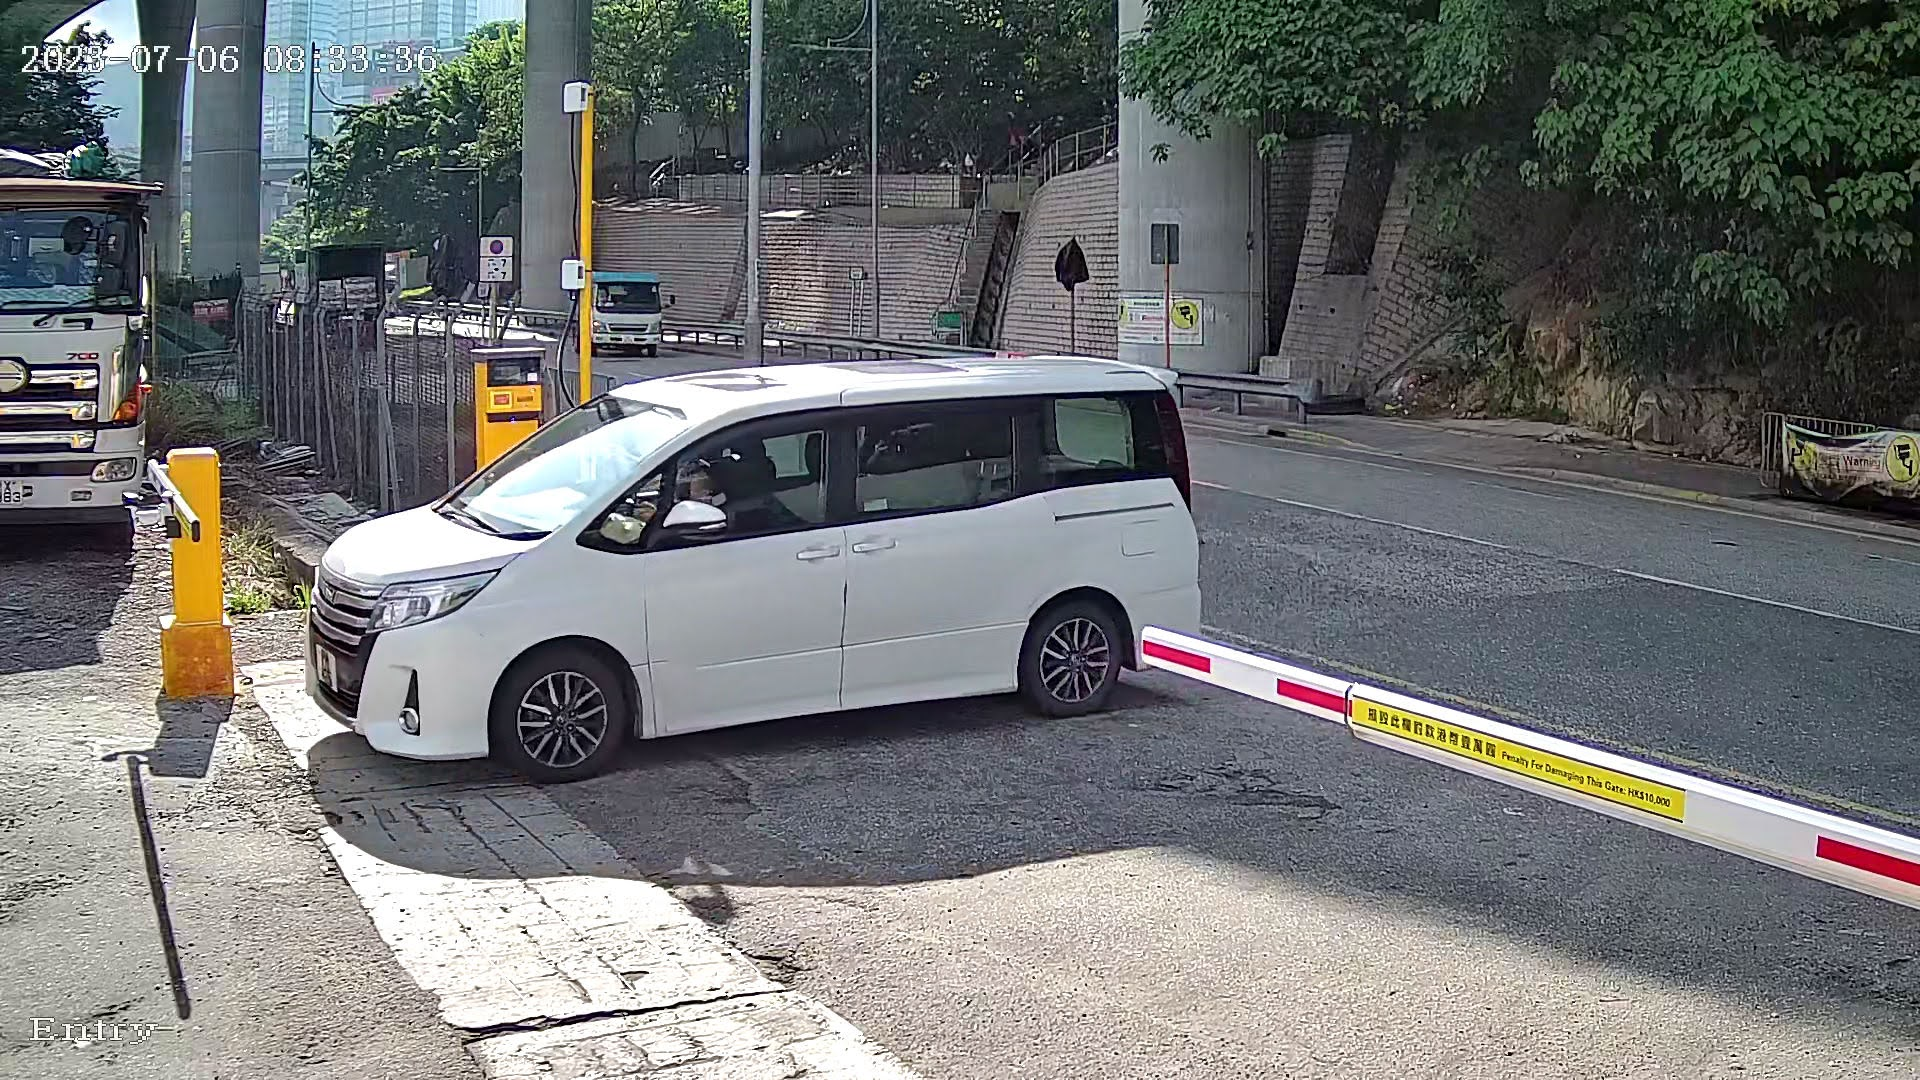privatecar: (258, 293, 1298, 804)
